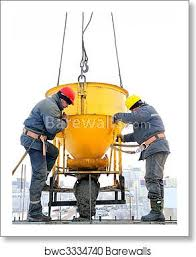helmet: (60, 86, 76, 104), (122, 95, 141, 110)
